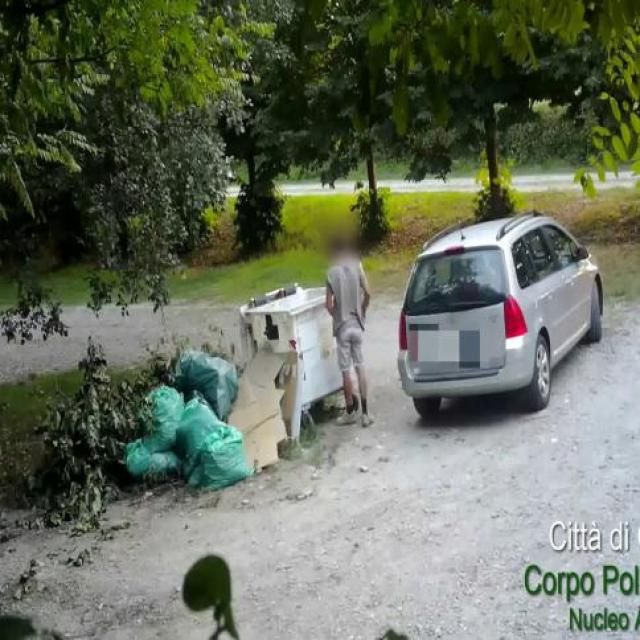Anorganik: (174, 391, 242, 467), (169, 343, 240, 406), (180, 434, 252, 488), (137, 386, 187, 449), (121, 442, 186, 480)
